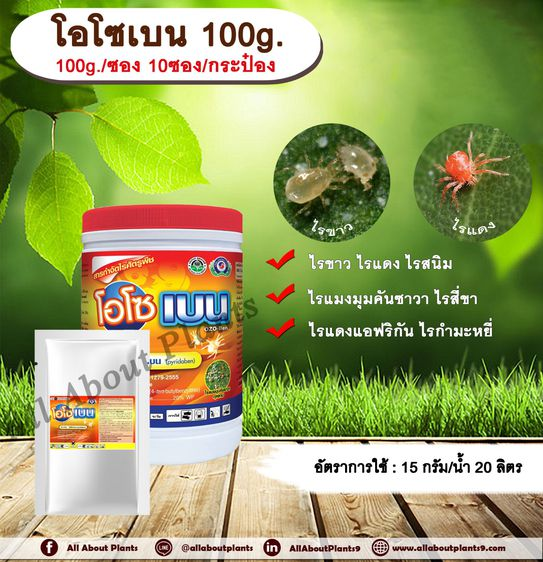Insecticide: (74, 198, 250, 474)
